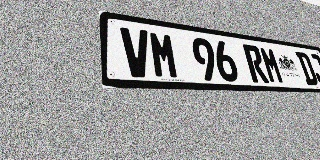6: (211, 40, 240, 82)
9: (190, 37, 220, 81)
D: (295, 51, 319, 85)
J: (307, 53, 320, 86)
M: (148, 31, 180, 79), (259, 46, 285, 84)
R: (242, 44, 269, 83)
V: (120, 27, 153, 78)
